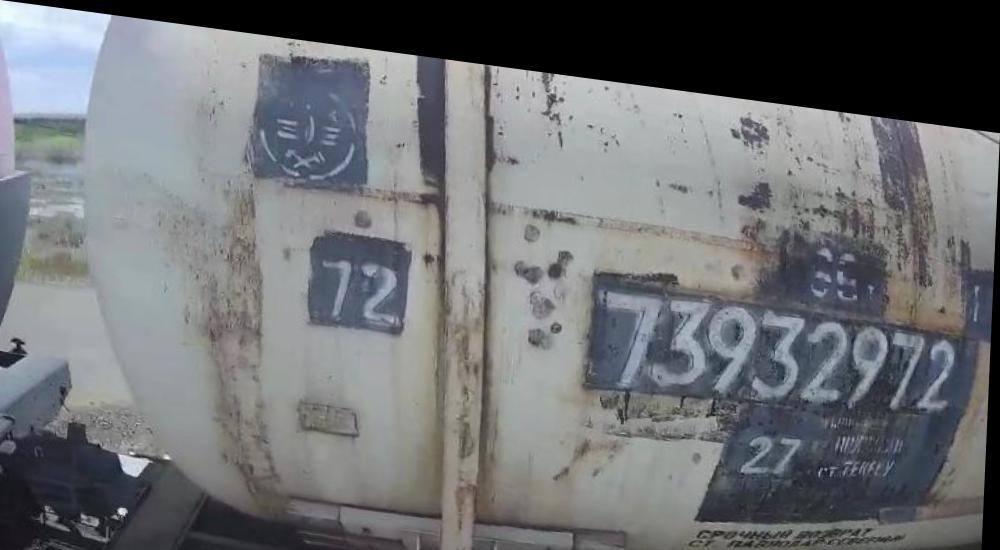Wagon-number: (600, 268, 965, 402)
